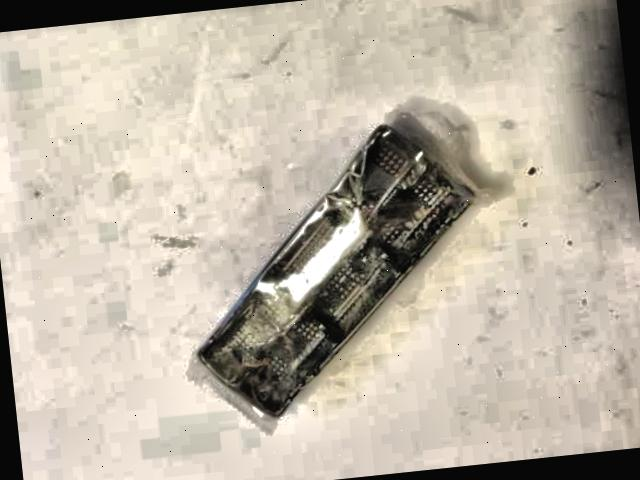Plastic: (183, 107, 514, 434)
